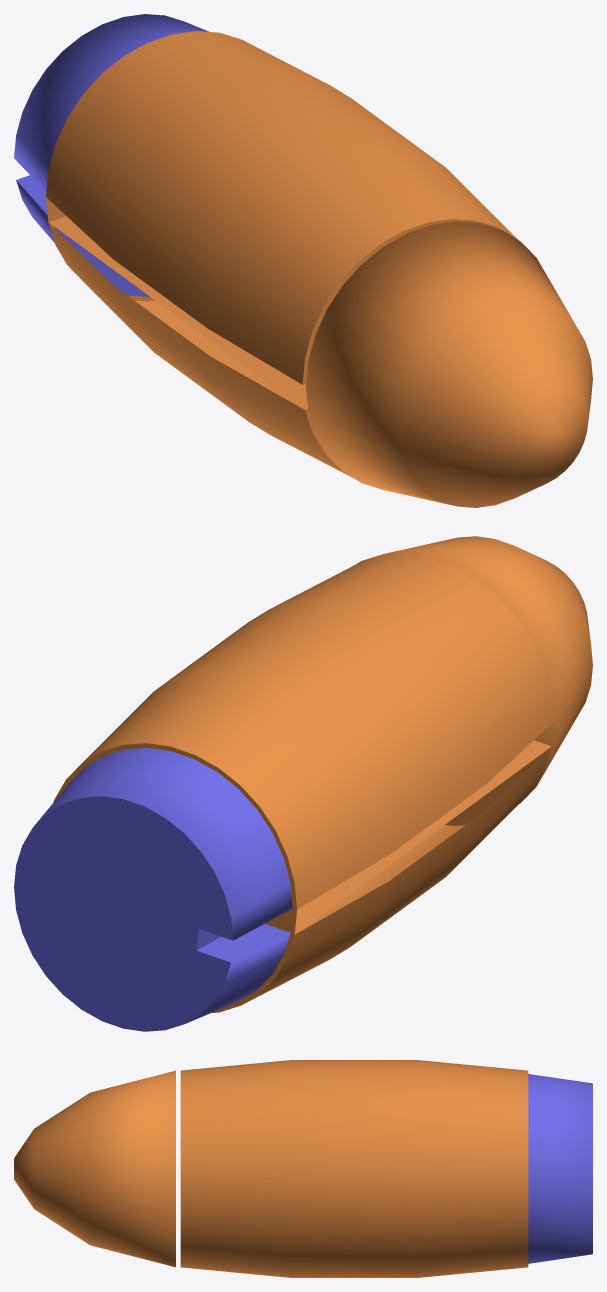
File: bullet.glb
3 views of the same model, one above another, from view 1: azimuth 30°, elevation 25°; view 2: azimuth 150°, elevation 25°; view 3: azimuth 270°, elevation 25° (orthographic). The views are drawn at different scales.
Visible parts, largest first — view 1: Cylinder; view 2: Cylinder; view 3: Cylinder.
Part boxes in pixels (x1,y1,x2,y2): Cylinder: (14, 14, 592, 507); Cylinder: (14, 536, 592, 1031); Cylinder: (14, 1060, 592, 1277).
Bounding box in the file's own units: 2.21 × 2.21 × 5.88.
